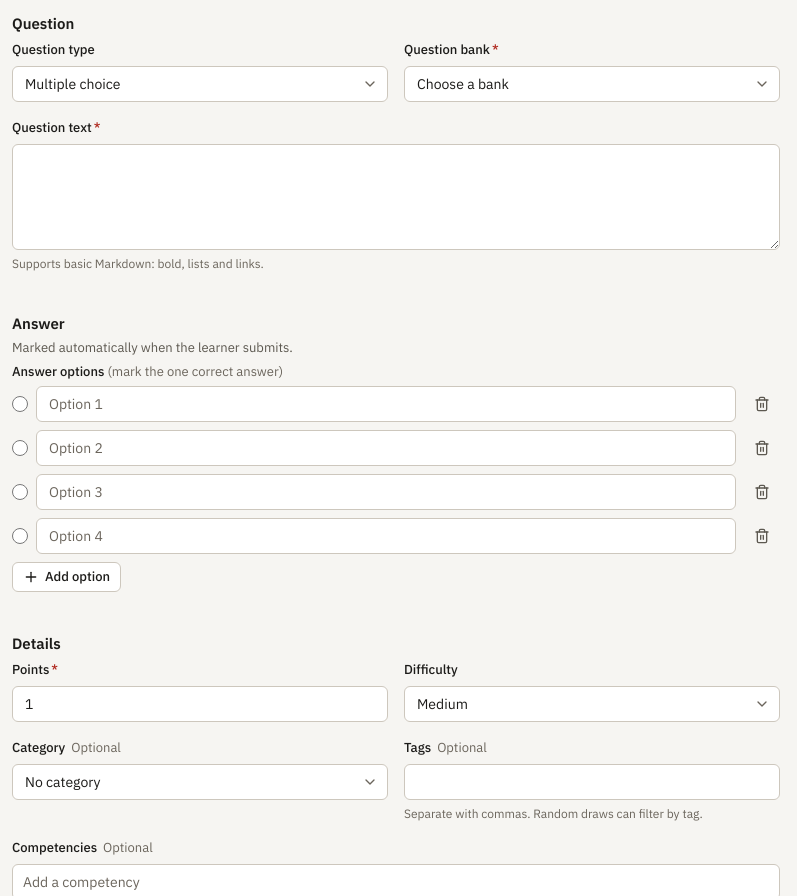
creating a question › shows the ordering editor when that type is chosen
This screenshot has width=797, height=896.
Select "Ordering" in the dropdown labelled "Question type": (200, 84) [12, 66, 388, 102]
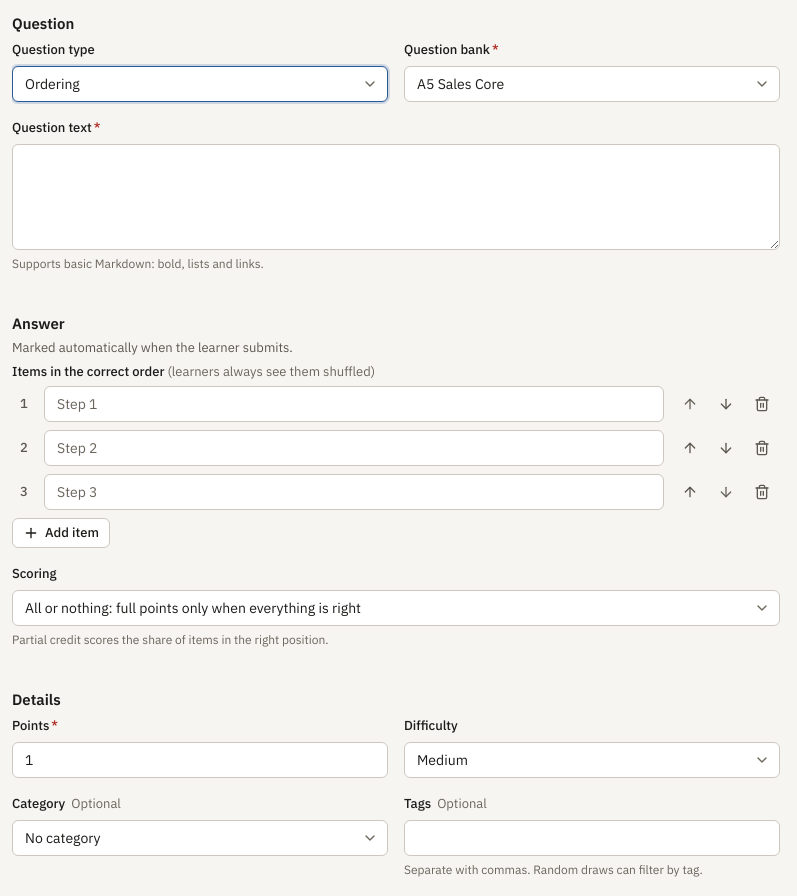
Result: the text "Items in the correct order" is shown at [12, 363, 164, 380]
